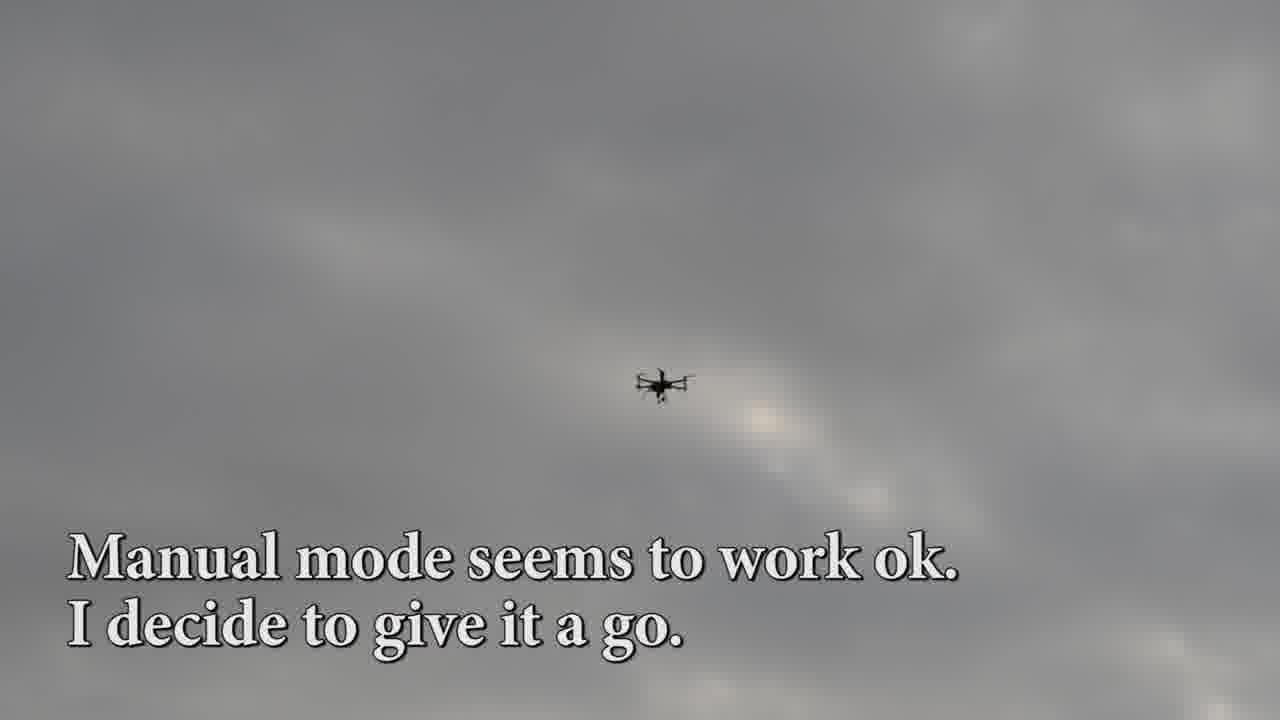drone: (634, 362, 703, 406)
